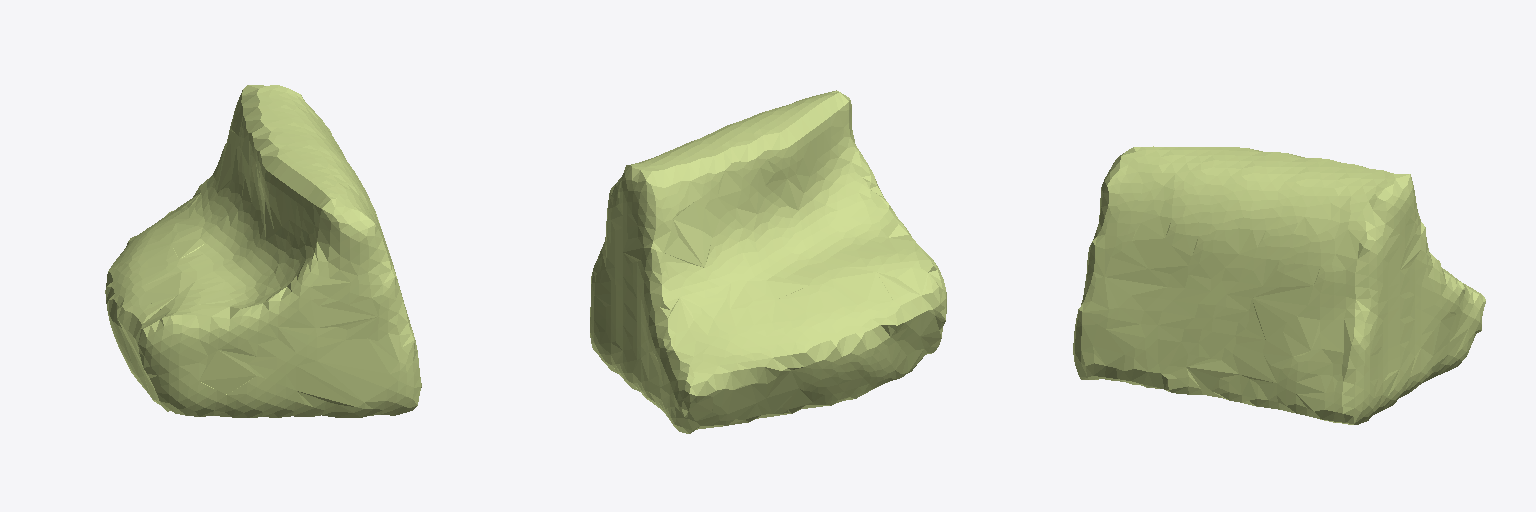
Rendered from Model_10027_LH__Anterior_intraparietal_area_of_cortex_(AIP).obj.
3 renders of one model, left to right at view 1: azimuth 30°, elevation 25°; view 2: azimuth 150°, elevation 25°; view 3: azimuth 270°, elevation 25°, orthographic.
Bounding box in the file's own units: 2.48 × 1.82 × 3.06.